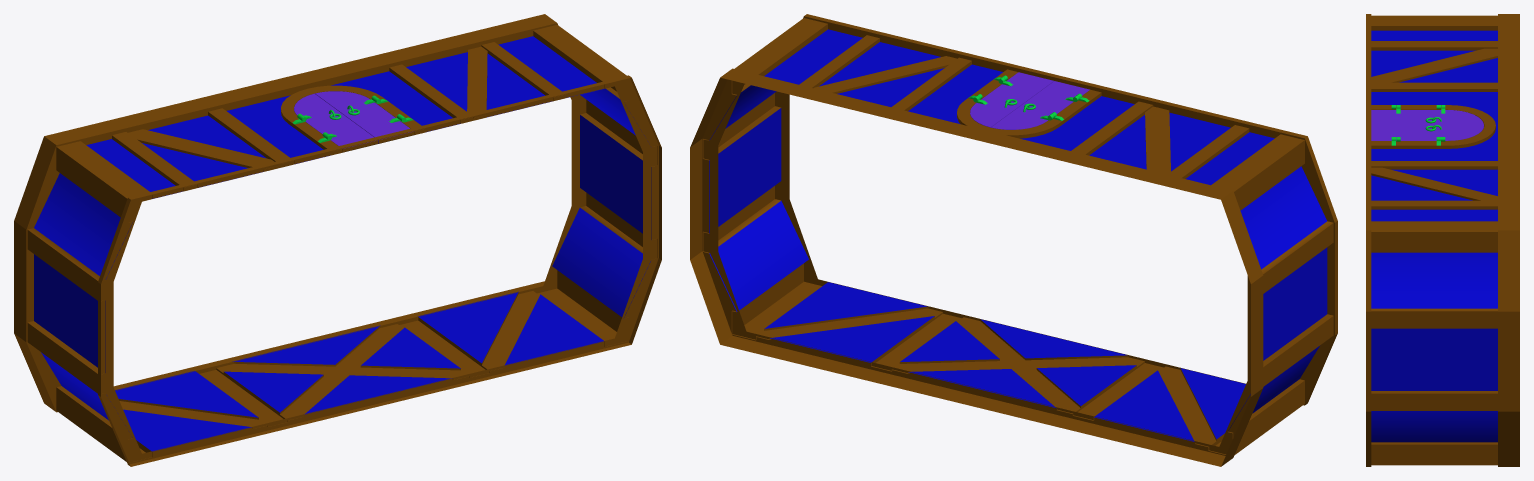
Rendered from Barn_Bottom.fbx.
The picture shows the model from 3 angles, left to right: view 1: azimuth 30°, elevation 25°; view 2: azimuth 150°, elevation 25°; view 3: azimuth 270°, elevation 25°; orthographic projection. The views are drawn at different scales.
Parts seen in each view (by area): view 1: Cube.007; view 2: Cube.007; view 3: Cube.007.
Boxes of the visible parts, <box> form: Cube.007: <box>14,14,661,466</box>; Cube.007: <box>690,14,1337,466</box>; Cube.007: <box>1366,14,1519,466</box>.
Bounding box in the file's own units: 2271 × 1040 × 609.
